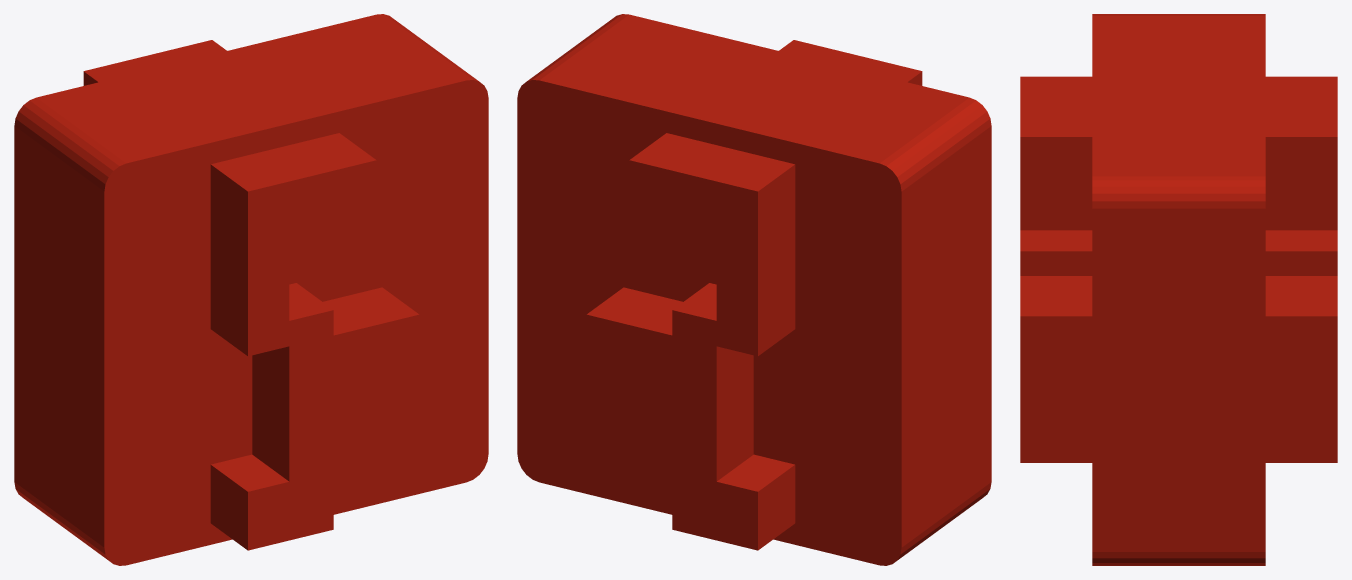
Rendered from emb.glb.
3 views of the same model, side by side, from view 1: azimuth 30°, elevation 25°; view 2: azimuth 150°, elevation 25°; view 3: azimuth 270°, elevation 25° (orthographic). The views are drawn at different scales.
Visible parts, largest first — view 1: Cube; view 2: Cube; view 3: Cube.
Part boxes in pixels (left/top/right/bottom): Cube: left=14, top=14, right=488, bottom=565; Cube: left=517, top=14, right=991, bottom=565; Cube: left=1020, top=14, right=1337, bottom=565.
Bounding box in the file's own units: 2 × 2 × 1.48.
